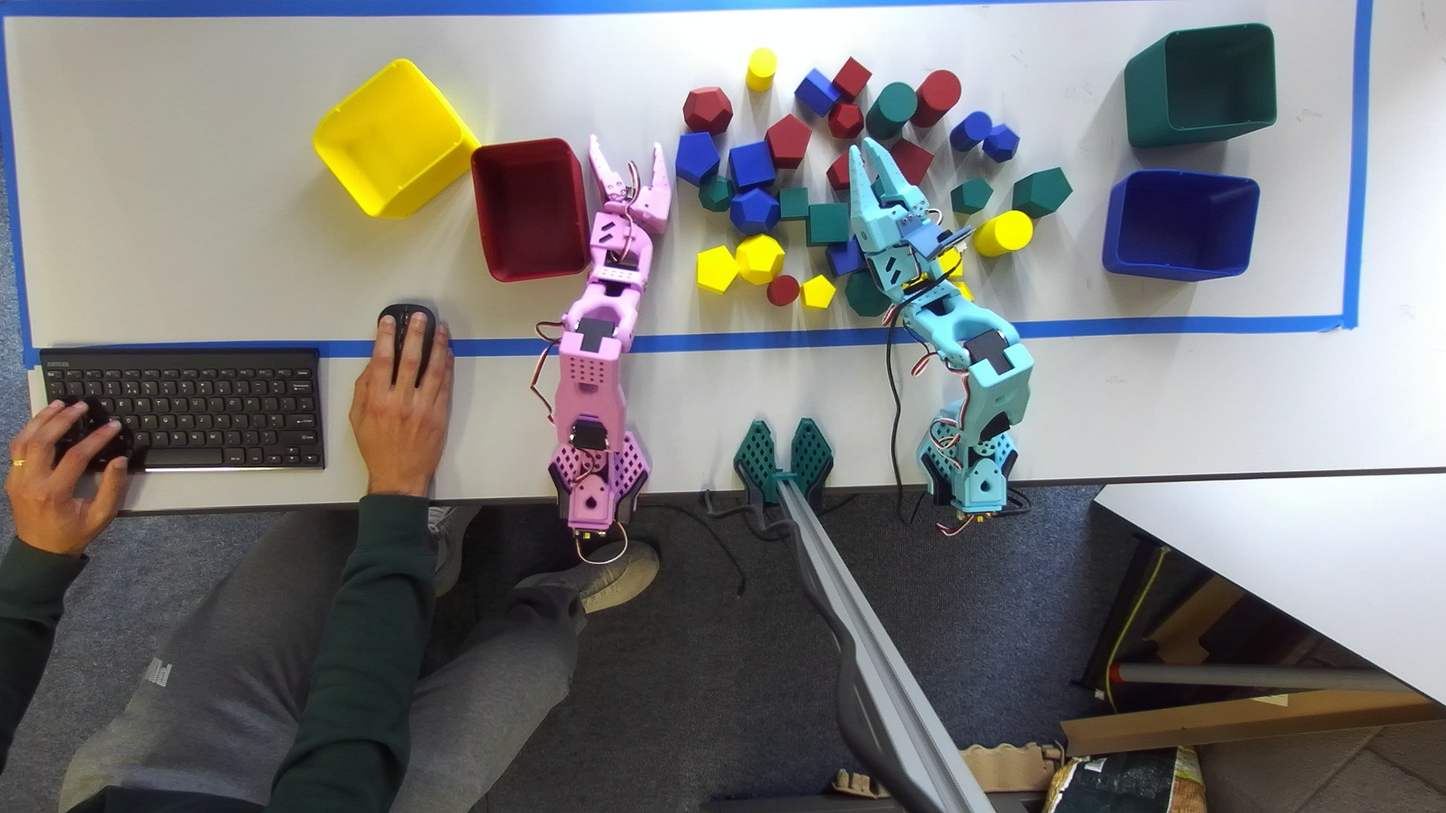bin: (313, 59, 480, 217), (1124, 23, 1276, 146), (1102, 169, 1259, 281), (471, 138, 589, 282)
cube: (729, 141, 775, 188), (889, 139, 933, 185), (806, 202, 849, 245), (833, 57, 871, 101), (826, 236, 866, 275), (779, 187, 808, 220)
cylinder: (865, 82, 916, 141), (911, 70, 961, 127), (973, 210, 1033, 256), (949, 111, 992, 151), (746, 47, 776, 91), (767, 274, 801, 306)
dodecahedron: (735, 234, 784, 285), (729, 188, 779, 236), (682, 87, 732, 135), (844, 270, 891, 317), (983, 123, 1019, 162), (828, 103, 863, 139), (698, 175, 732, 212)
gripper: (848, 137, 940, 253), (589, 135, 671, 234)
hexagonal: (1012, 167, 1072, 218), (766, 114, 811, 169), (675, 132, 719, 186), (795, 69, 838, 116), (696, 246, 738, 293), (950, 177, 993, 215), (801, 275, 835, 308), (825, 151, 849, 192)
